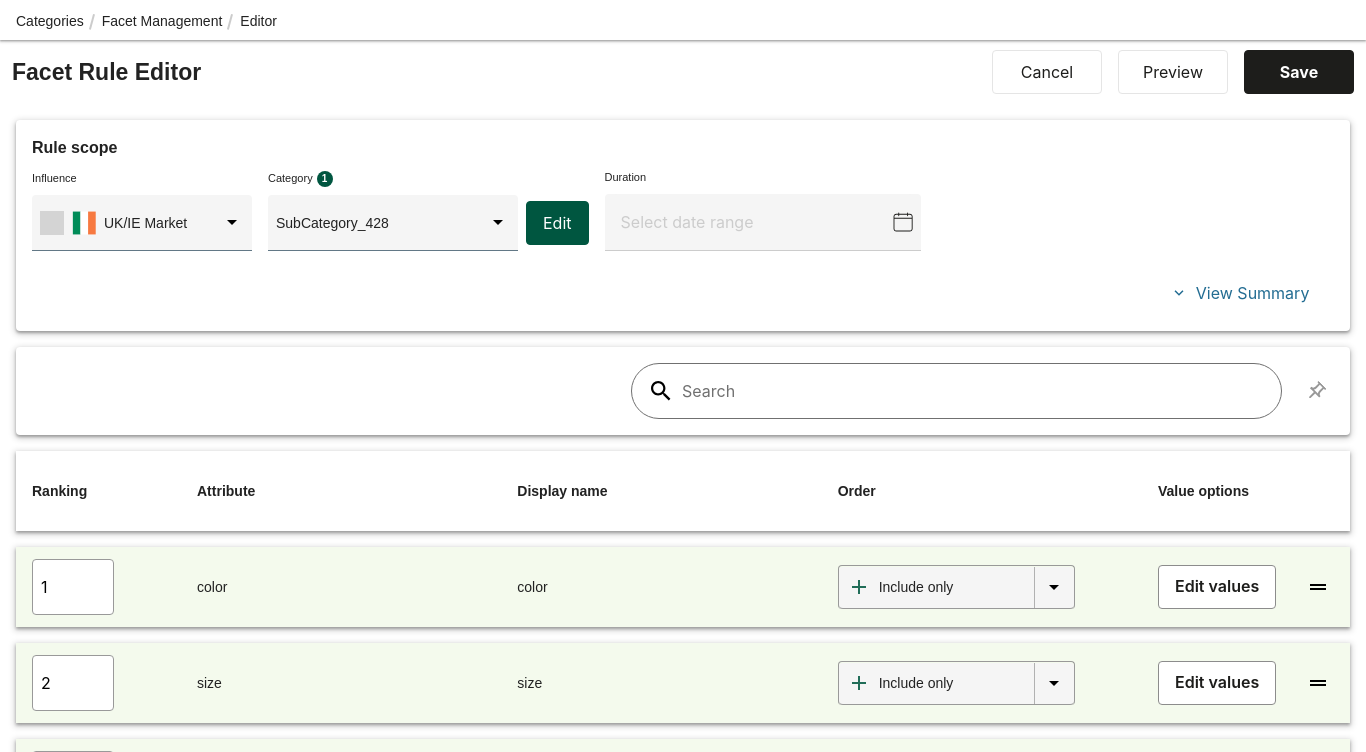
Test case: Category Facet Management Editing › sends the v1 flag + version and shows the conflict modal on a 409
What coordinates should you click on to do the following:
click the button "Save"
I would click on:
 (1299, 72)
Its box is [1244,50,1354,94].
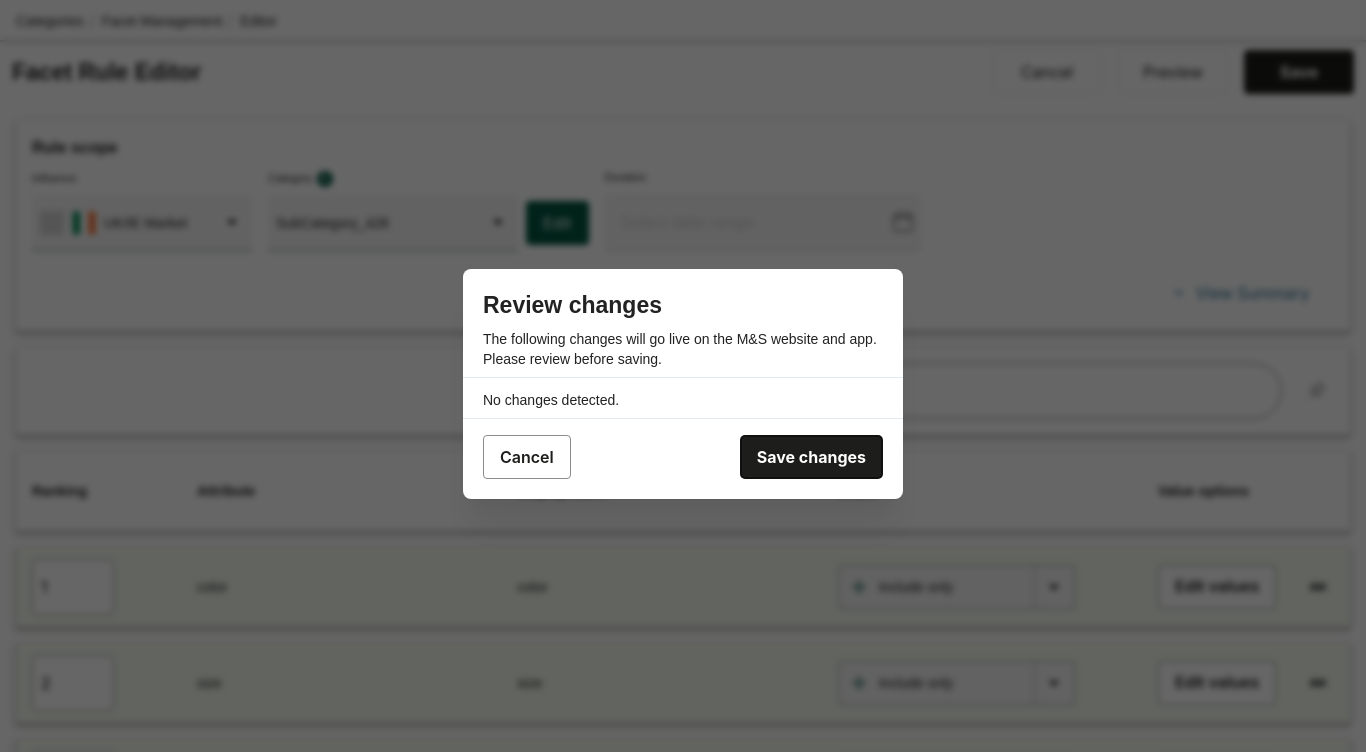
What coordinates should you click on to do the following:
click the button "Save changes"
I would click on:
 (811, 457)
Its box is [740,435,883,479].
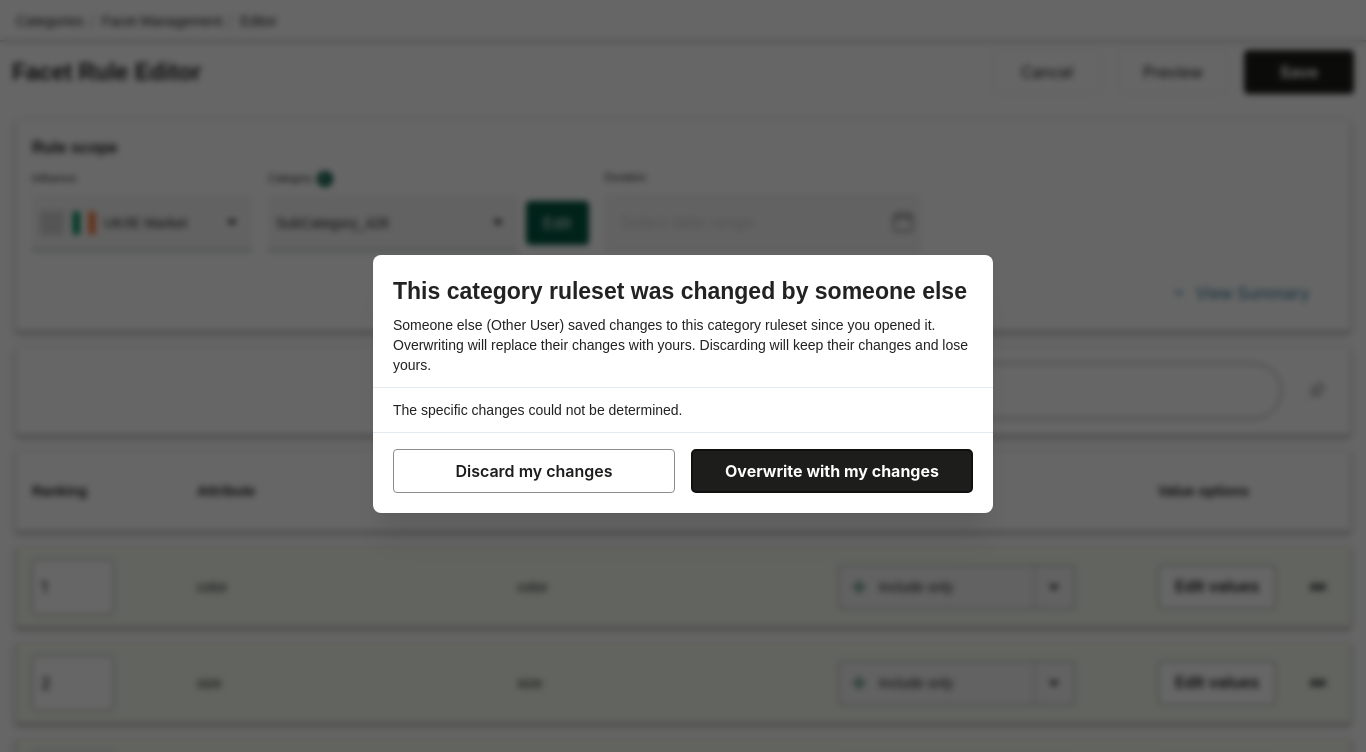
Expected: the dialog "This category ruleset was changed by someone else" is shown, [373,255,993,513]
